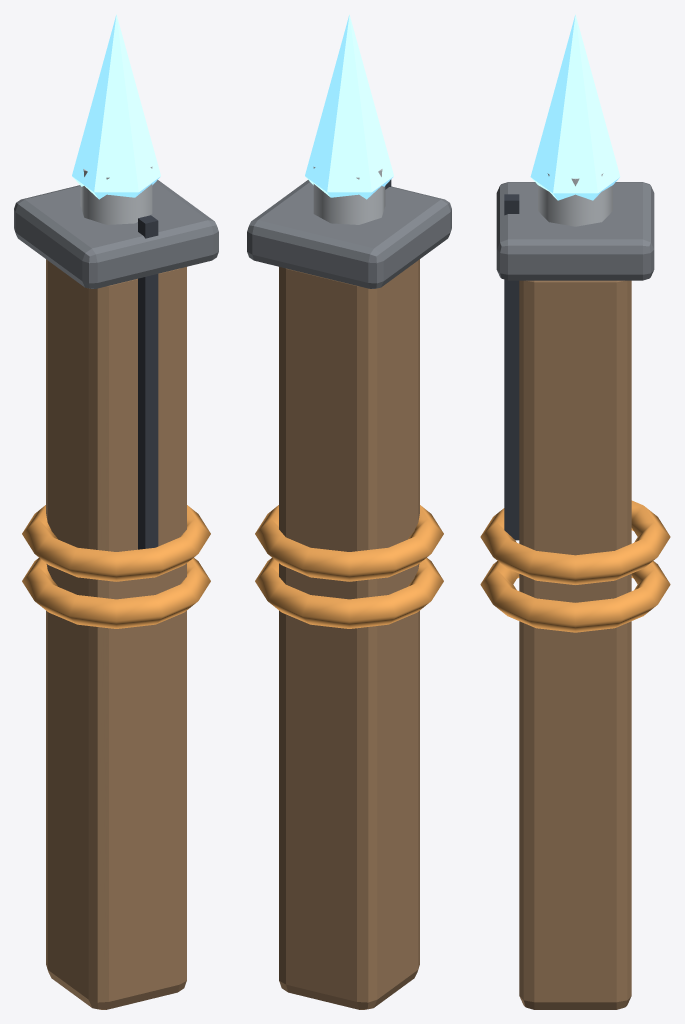
The model's file is fence_post.glb.
The picture shows the model from 3 angles, left to right: view 1: azimuth 30°, elevation 25°; view 2: azimuth 150°, elevation 25°; view 3: azimuth 270°, elevation 25°; orthographic projection.
Visible parts, largest first — view 1: FencePost.001; view 2: FencePost.001; view 3: FencePost.001.
Boxes of the visible parts, left/top/right/bottom form: FencePost.001: left=14, top=14, right=218, bottom=1009; FencePost.001: left=247, top=14, right=451, bottom=1009; FencePost.001: left=480, top=14, right=670, bottom=1009.
Bounding box in the file's own units: 0.254 × 1.44 × 0.254.
